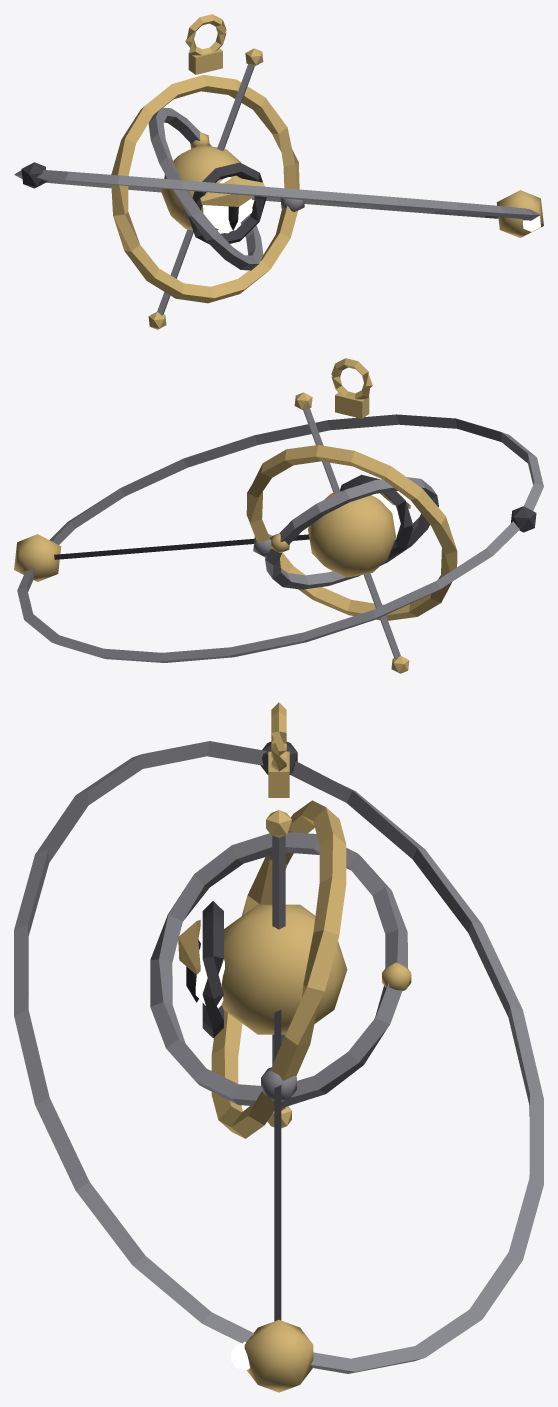
File: astrolabe-slow-circle.glb
3 renders of one model, top to bottom at view 1: azimuth 30°, elevation 25°; view 2: azimuth 150°, elevation 25°; view 3: azimuth 270°, elevation 25°, orthographic. The views are drawn at different scales.
Parts seen in each view (by area): view 1: astrolabe_slow_circle; view 2: astrolabe_slow_circle; view 3: astrolabe_slow_circle.
Boxes of the visible parts, box(x1,y1,x2,y2) form: astrolabe_slow_circle: box(14, 14, 543, 329); astrolabe_slow_circle: box(14, 358, 543, 673); astrolabe_slow_circle: box(14, 702, 543, 1392).
Size of the model in its own units: 1.16 by 0.6479 by 0.6796.
